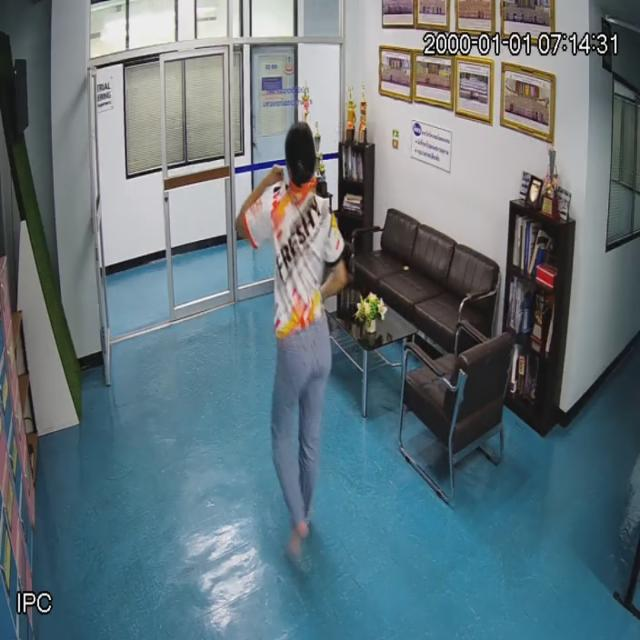normal: (235, 126, 341, 555)
